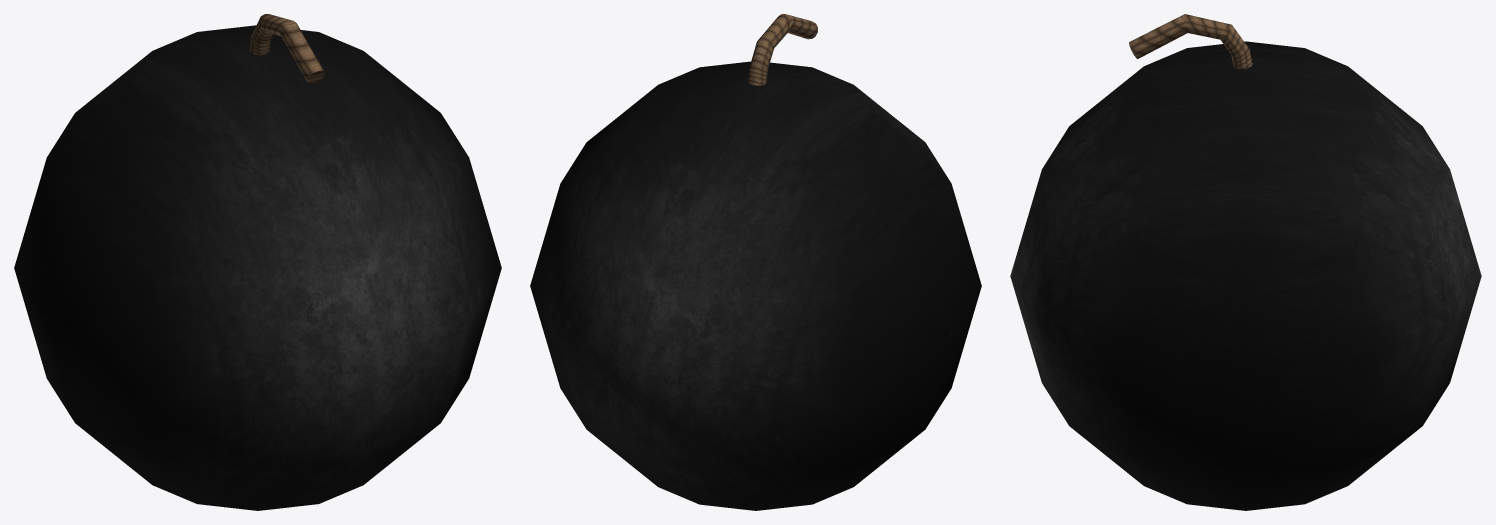
Rendered from bomb.fbx.
3 views of the same model, side by side, from view 1: azimuth 30°, elevation 25°; view 2: azimuth 150°, elevation 25°; view 3: azimuth 270°, elevation 25° (orthographic). The views are drawn at different scales.
Parts seen in each view (by area): view 1: Sphere01, Cylinder01; view 2: Sphere01, Cylinder01; view 3: Sphere01, Cylinder01.
Boxes of the visible parts, bbox=[...] form: Sphere01: bbox=[14, 25, 501, 510]; Cylinder01: bbox=[249, 14, 324, 83]; Sphere01: bbox=[530, 61, 981, 510]; Cylinder01: bbox=[748, 14, 817, 85]; Sphere01: bbox=[1010, 41, 1481, 510]; Cylinder01: bbox=[1129, 14, 1252, 69].
Size of the model in its own units: 6.08 by 6.76 by 6.08.
Materials: 1 (1 with a texture image).
